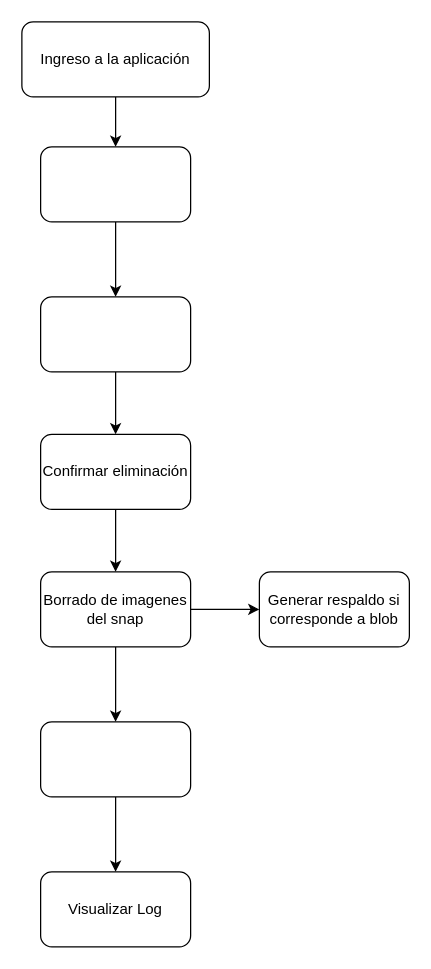
Image size: 431x969. Some labels were removed from this diagram. Here are the shapes that lost their labels. From the top down, the centre of each, then its label:
point (115, 184): Selecciona cliente
point (115, 334): Generar reporte de radicados disponibles para eliminar
point (115, 759): Generar Log de imágenes borradas
